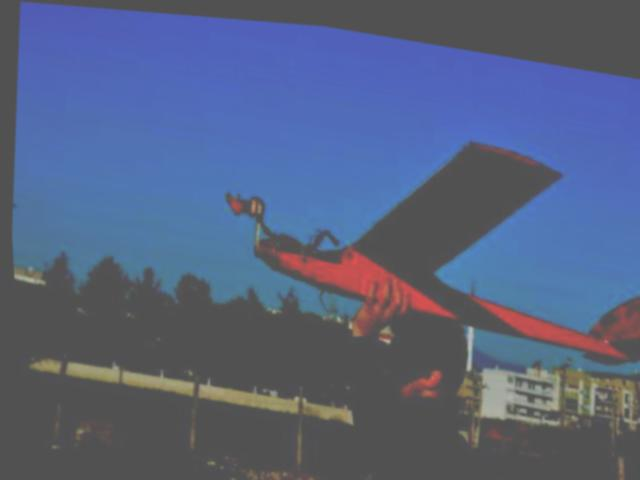iha: (211, 90, 640, 366)
